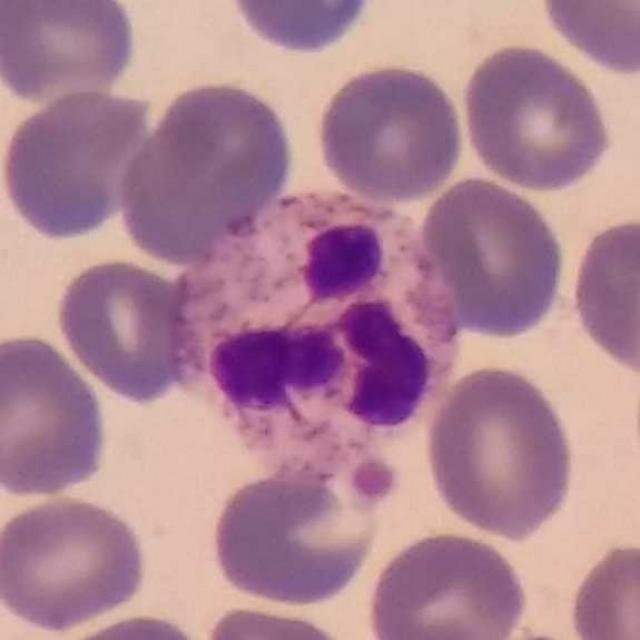Neutrophil: (161, 184, 463, 496)
Platelets: (347, 455, 400, 512)
RBC: (113, 75, 300, 267), (205, 449, 392, 611), (421, 361, 580, 542), (413, 172, 571, 342), (0, 85, 156, 242), (458, 40, 616, 195), (312, 59, 468, 206), (52, 254, 202, 406), (0, 490, 151, 633), (362, 526, 532, 640), (0, 329, 112, 501), (0, 0, 141, 104), (566, 212, 640, 381), (223, 0, 384, 58), (535, 0, 640, 77), (564, 536, 640, 640), (199, 602, 360, 640), (40, 610, 216, 640)
